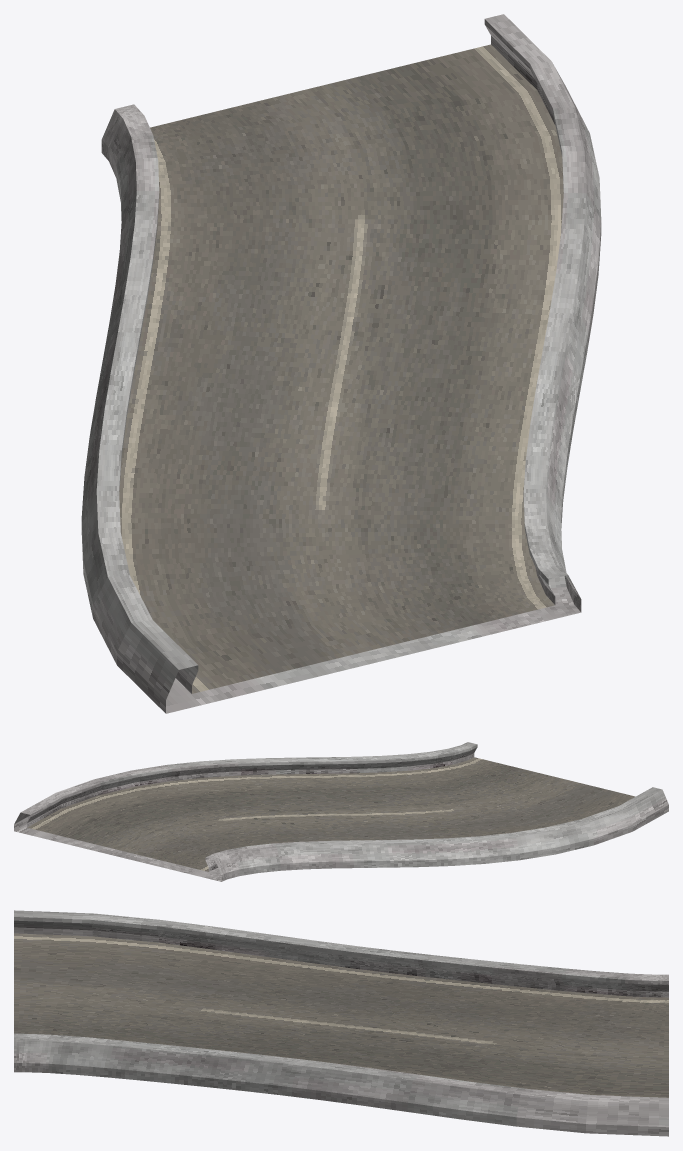
Rendered from road-Chicane-Flat-Flat-Up1-Right1-Size2.glb.
3 views of the same model, one above another, from view 1: azimuth 30°, elevation 25°; view 2: azimuth 150°, elevation 25°; view 3: azimuth 270°, elevation 25° (orthographic). The views are drawn at different scales.
Visible parts, largest first — view 1: road-Chicane-Flat-Flat-Up1-Right1-Size2; view 2: road-Chicane-Flat-Flat-Up1-Right1-Size2; view 3: road-Chicane-Flat-Flat-Up1-Right1-Size2.
Boxes of the visible parts, x1,y1,x2,y2 form: road-Chicane-Flat-Flat-Up1-Right1-Size2: (81,14,601,713); road-Chicane-Flat-Flat-Up1-Right1-Size2: (14,742,668,881); road-Chicane-Flat-Flat-Up1-Right1-Size2: (14,910,668,1136).
Bounding box in the file's own units: 2 × 0.3438 × 2.
Materials: 2 (2 with a texture image).
